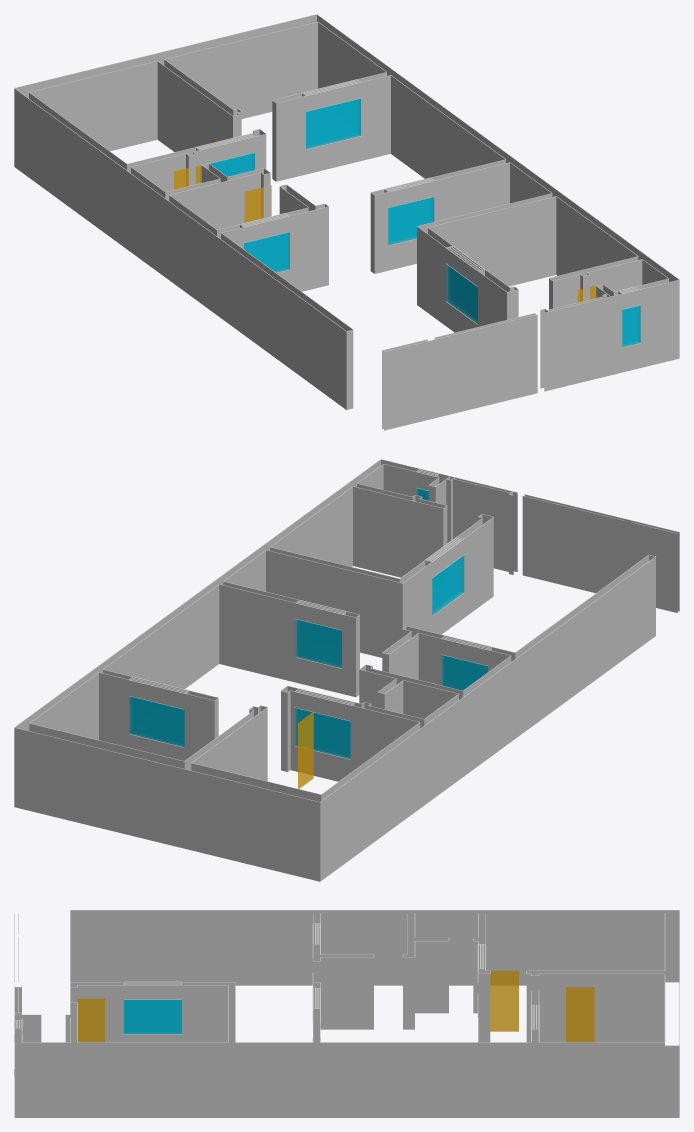
Rendered from 08aa056a-26ca-4421-b22a-a9422659c92c_no_roof.glb.
3 views of the same model, one above another, from view 1: azimuth 30°, elevation 25°; view 2: azimuth 150°, elevation 25°; view 3: azimuth 270°, elevation 25° (orthographic). The views are drawn at different scales.
Visible parts, largest first — view 1: walls, windows, doors; view 2: walls, windows, doors; view 3: walls, doors, windows.
Boxes of the visible parts, x1,y1,x2,y2 form: walls: (14,14,679,430); windows: (200,98,640,347); doors: (174,138,604,302); walls: (14,459,679,881); windows: (129,488,487,759); doors: (298,712,313,788); walls: (14,910,679,1117); doors: (77,971,594,1042); windows: (124,1000,181,1034).
Bounding box in the file's own units: 10.08 × 2.5 × 20.91.
